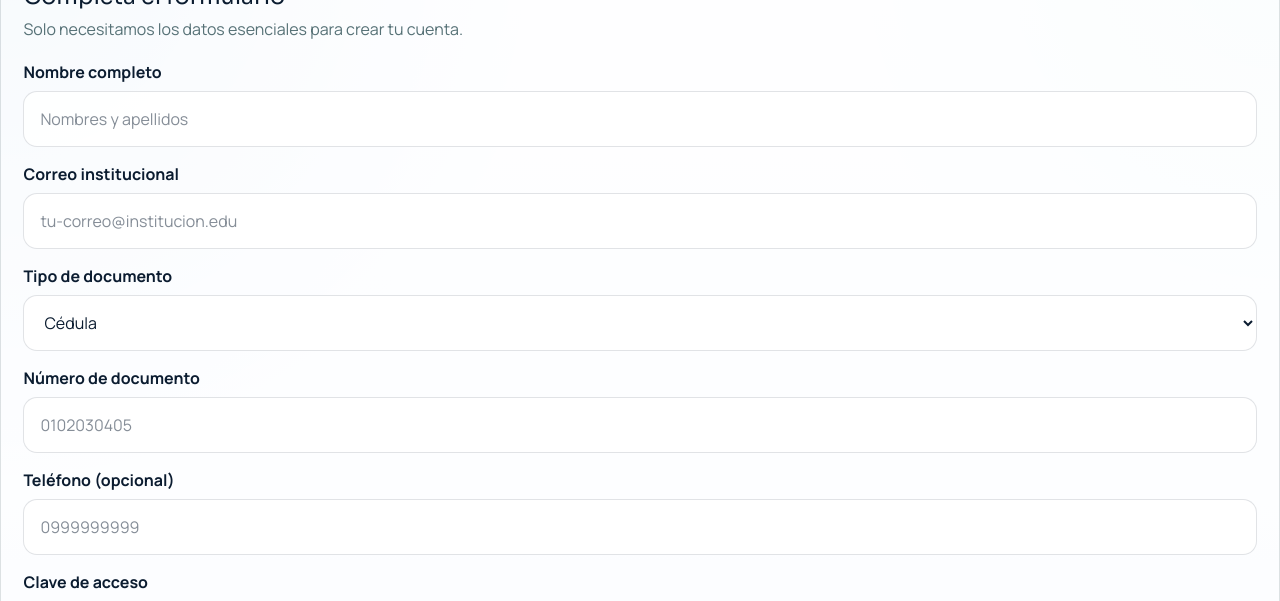
Test case: RegisterForm › shows validation message when the phone does not start with 09
In the field with placeholder "Nombres y apellidos": (640, 119) [23,91,1257,147], type "Nuevo Usuario"
In the field with placeholder "tu-correo@institucion.edu": (640, 221) [23,193,1257,249], type "nuevo@uta.edu.ec"
(page scrolled)
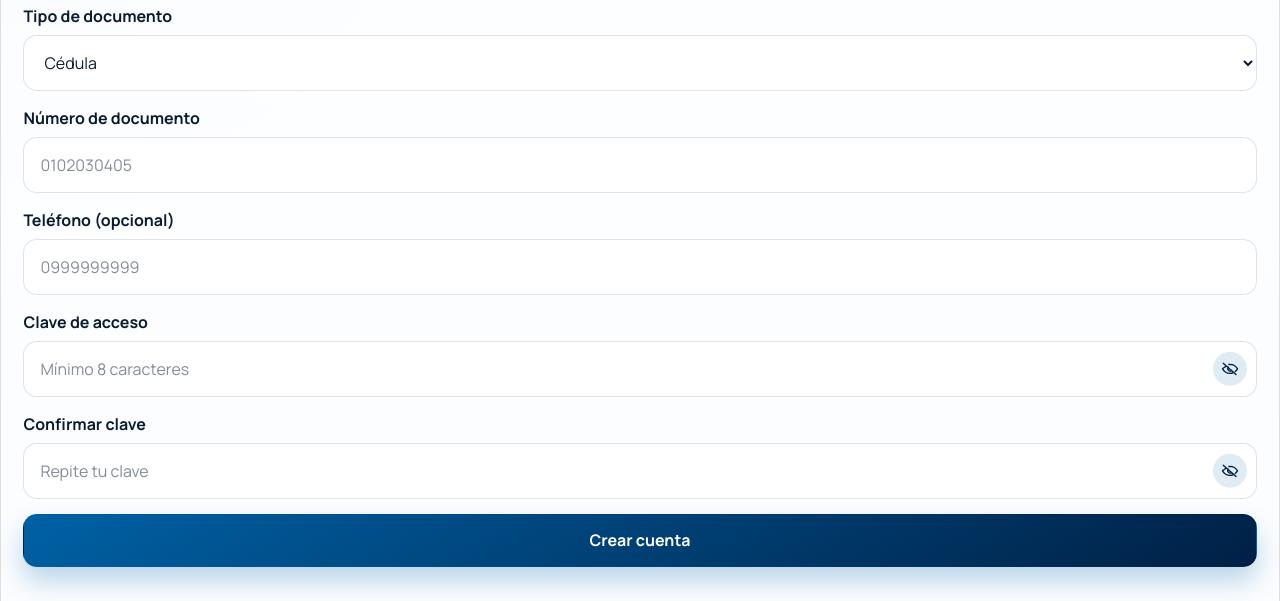
In the password field with placeholder "Mínimo 8 caracteres": (640, 369) [23,341,1257,397], type "Password123"
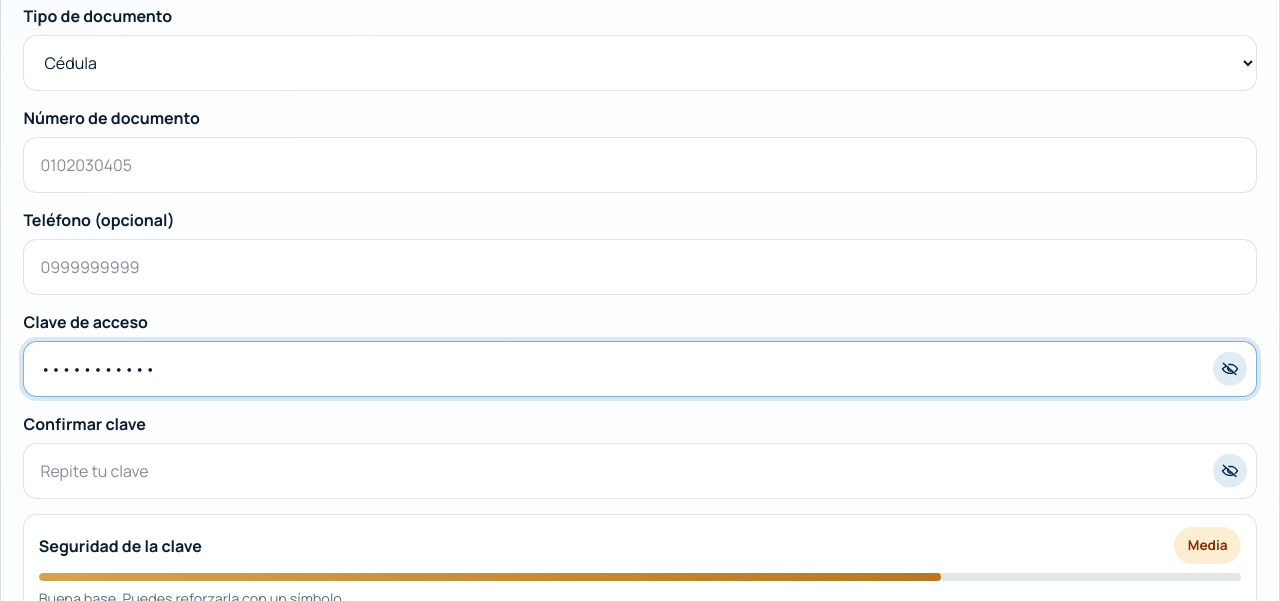
In the password field with placeholder "Repite tu clave": (640, 471) [23,443,1257,499], type "Password123"
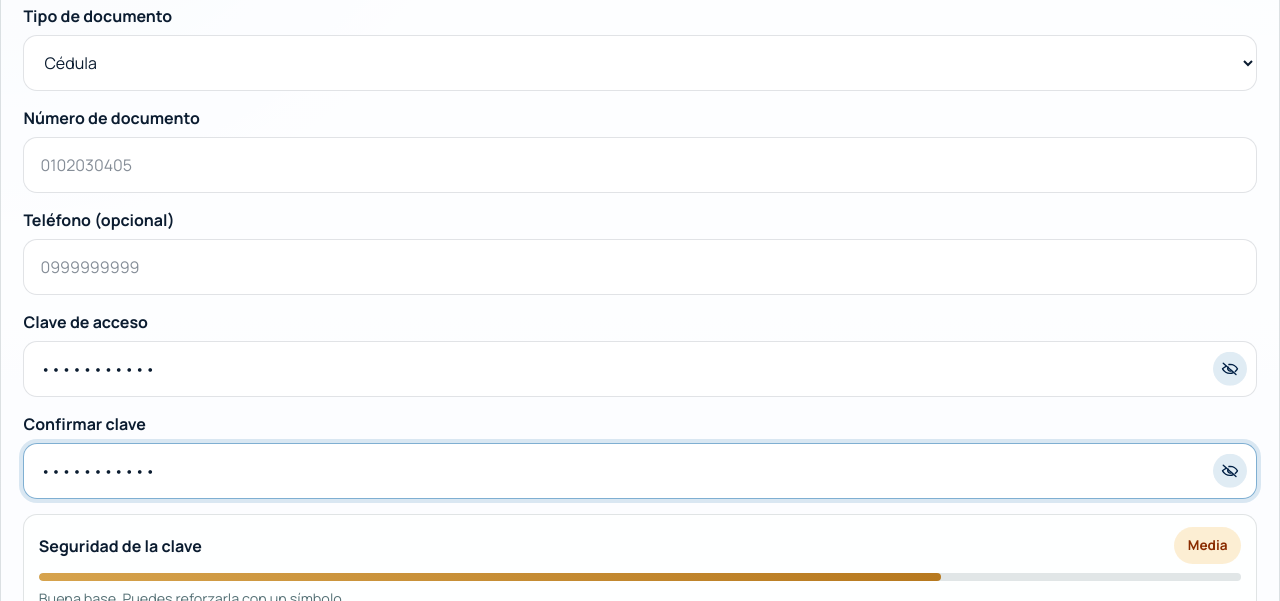
In the field with placeholder "0102030405": (640, 165) [23,137,1257,193], type "1710034065"
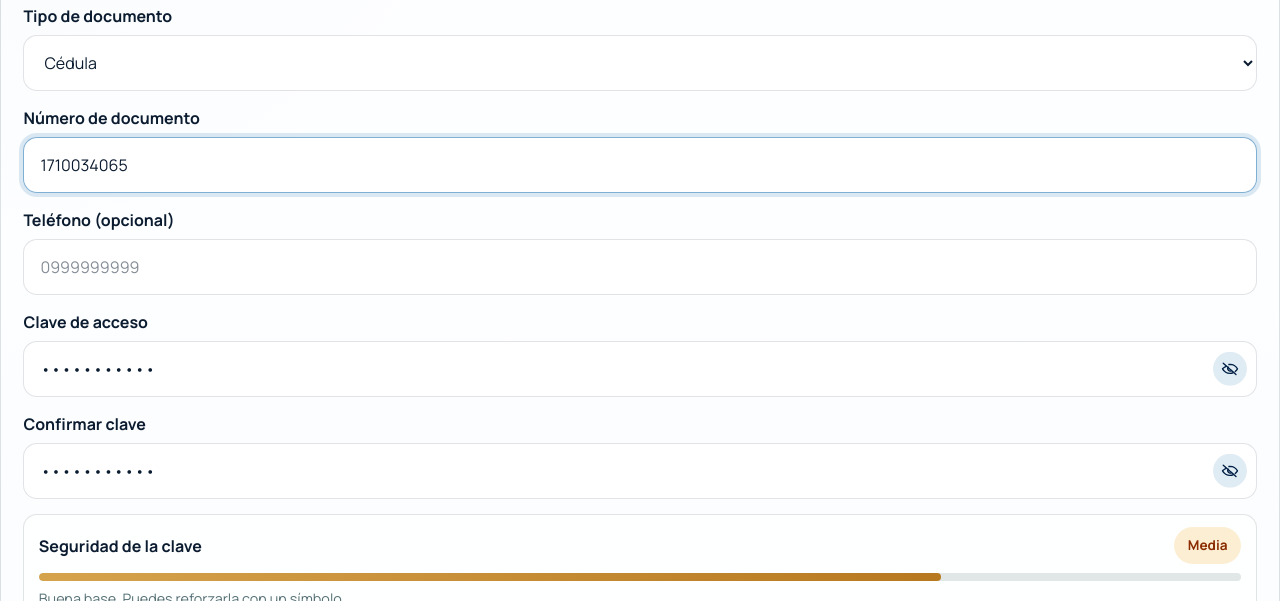
In the field with placeholder "0999999999": (640, 267) [23,239,1257,295], type "0812345678"
(page scrolled)
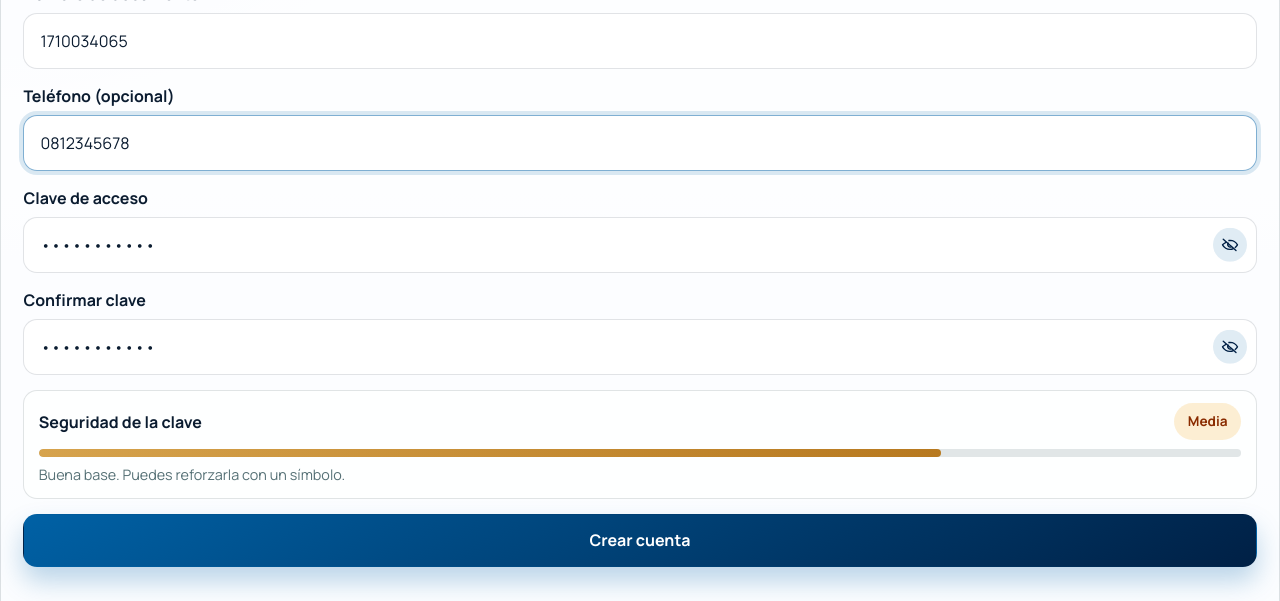
Click the button "Crear cuenta": (640, 540) [23,514,1257,567]
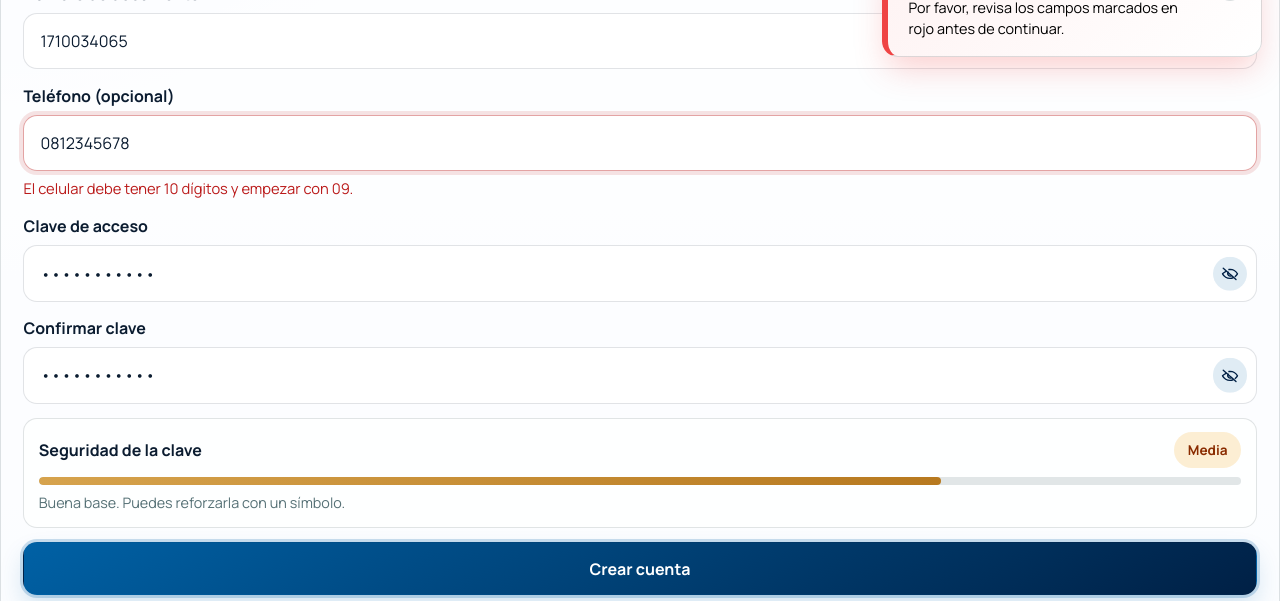
Result: the text "El celular debe tener 10 dígitos y empezar con 09." is shown at [23,178,353,198]
